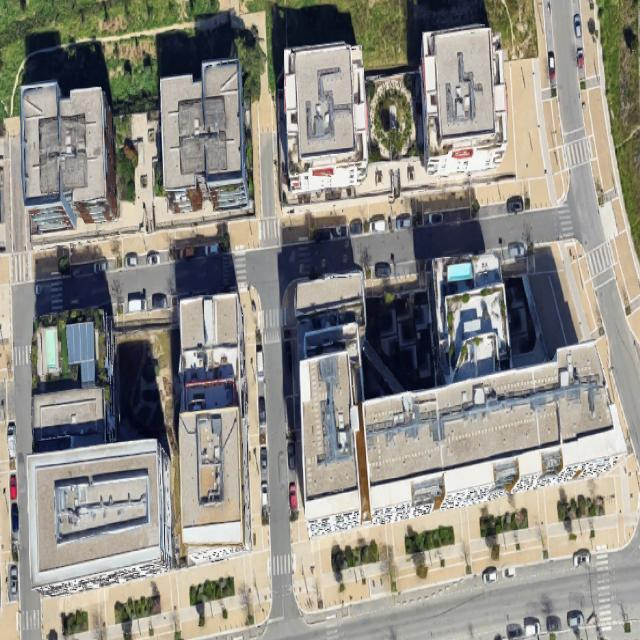immeuble: (344, 340, 630, 529), (23, 437, 177, 596), (155, 59, 251, 214), (19, 80, 116, 232), (417, 24, 509, 177), (25, 307, 120, 450), (284, 43, 370, 195), (297, 350, 362, 536), (177, 405, 250, 563), (431, 253, 510, 383), (294, 272, 367, 404), (181, 293, 247, 421)
